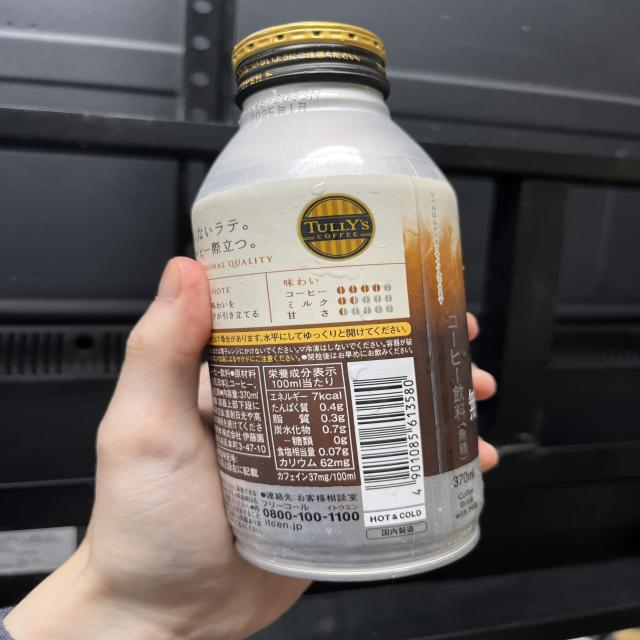coffee-latte: (192, 19, 486, 580)
